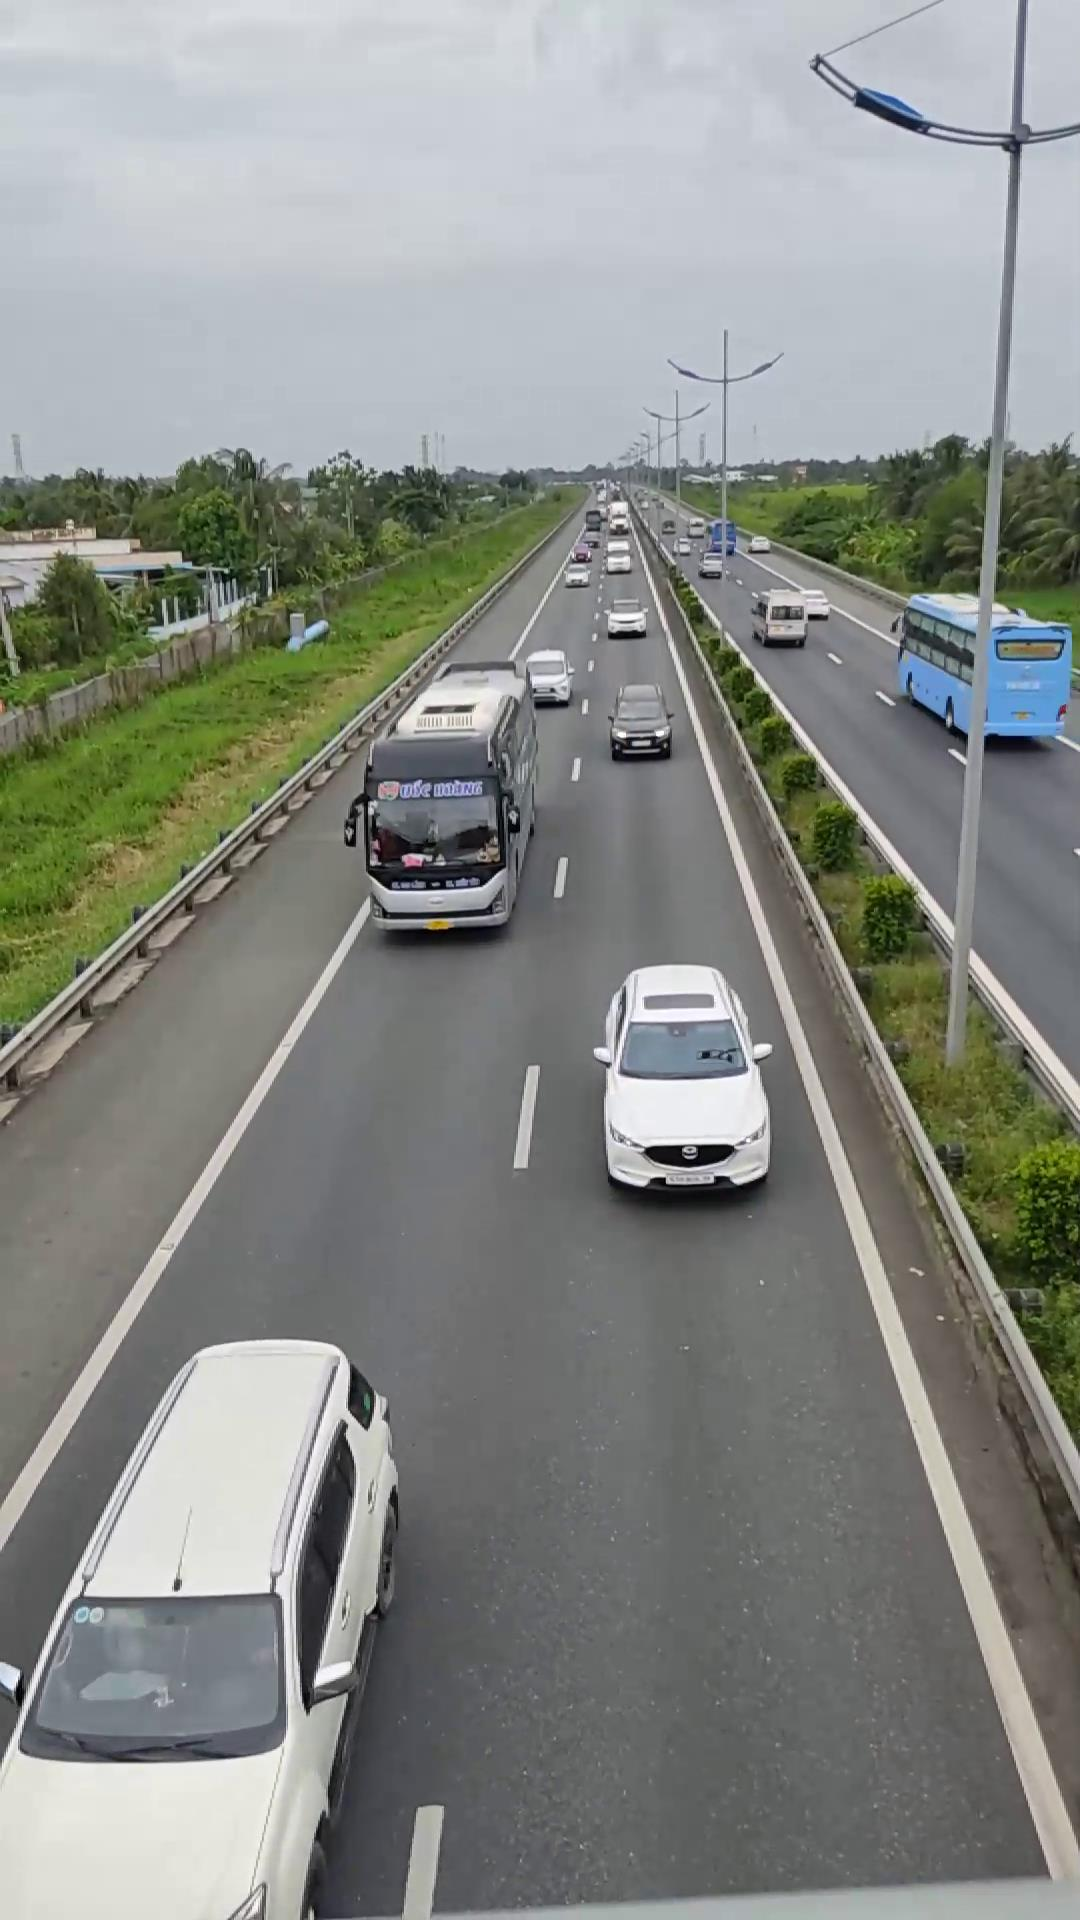bus: (352, 664, 539, 936)
car: (1, 1335, 407, 1918), (591, 962, 776, 1197), (605, 683, 675, 758)
